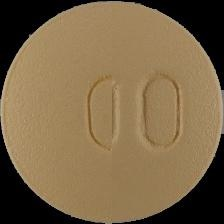63187-269: (0, 0, 224, 224)
